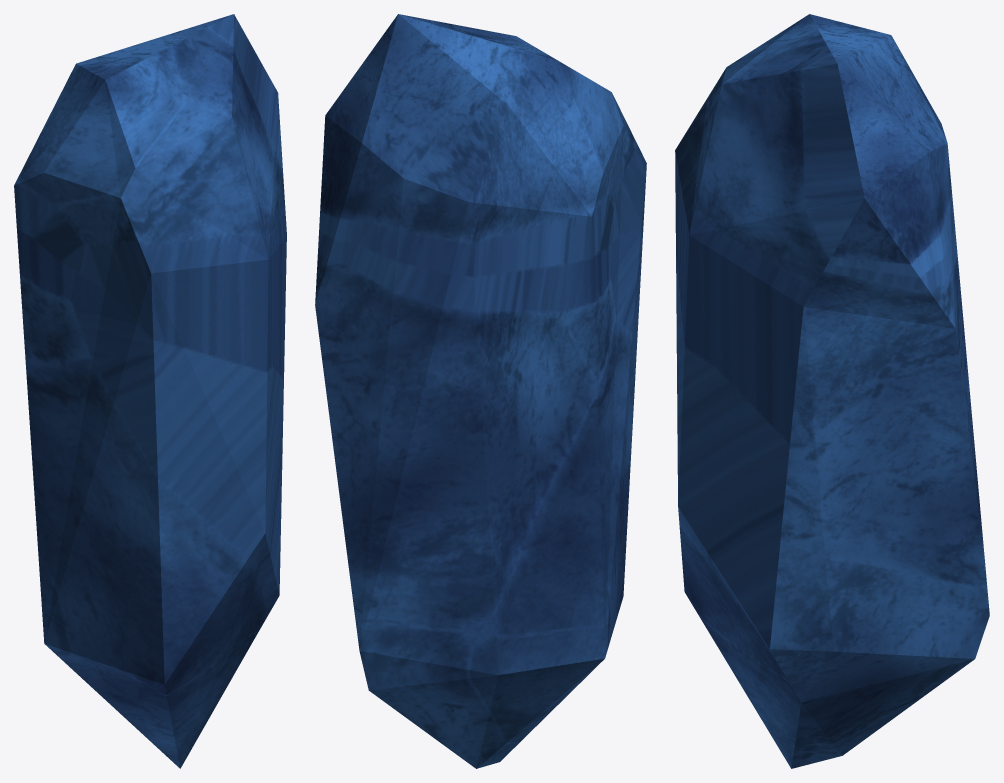
3 views of the same model, side by side, from view 1: azimuth 30°, elevation 25°; view 2: azimuth 150°, elevation 25°; view 3: azimuth 270°, elevation 25° (orthographic). The views are drawn at different scales.
Visible parts, largest first — view 1: mini4; view 2: mini4; view 3: mini4.
Part boxes in pixels (bbox=[...]): mini4: bbox=[14, 14, 286, 768]; mini4: bbox=[315, 14, 646, 768]; mini4: bbox=[675, 14, 989, 768].
Size of the model in its own units: 0.6011 by 1.59 by 0.6084.
